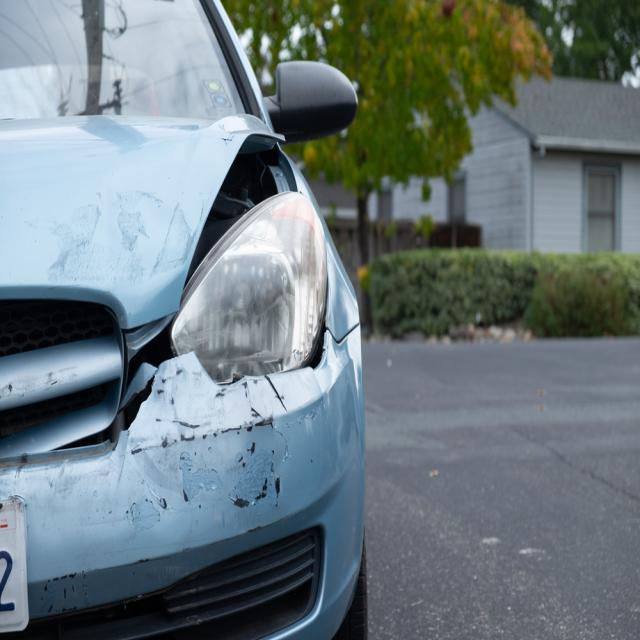Dechirure: (186, 120, 306, 284), (90, 312, 187, 444)
Phare abime: (183, 147, 331, 397)
Rayure: (4, 363, 295, 619)
